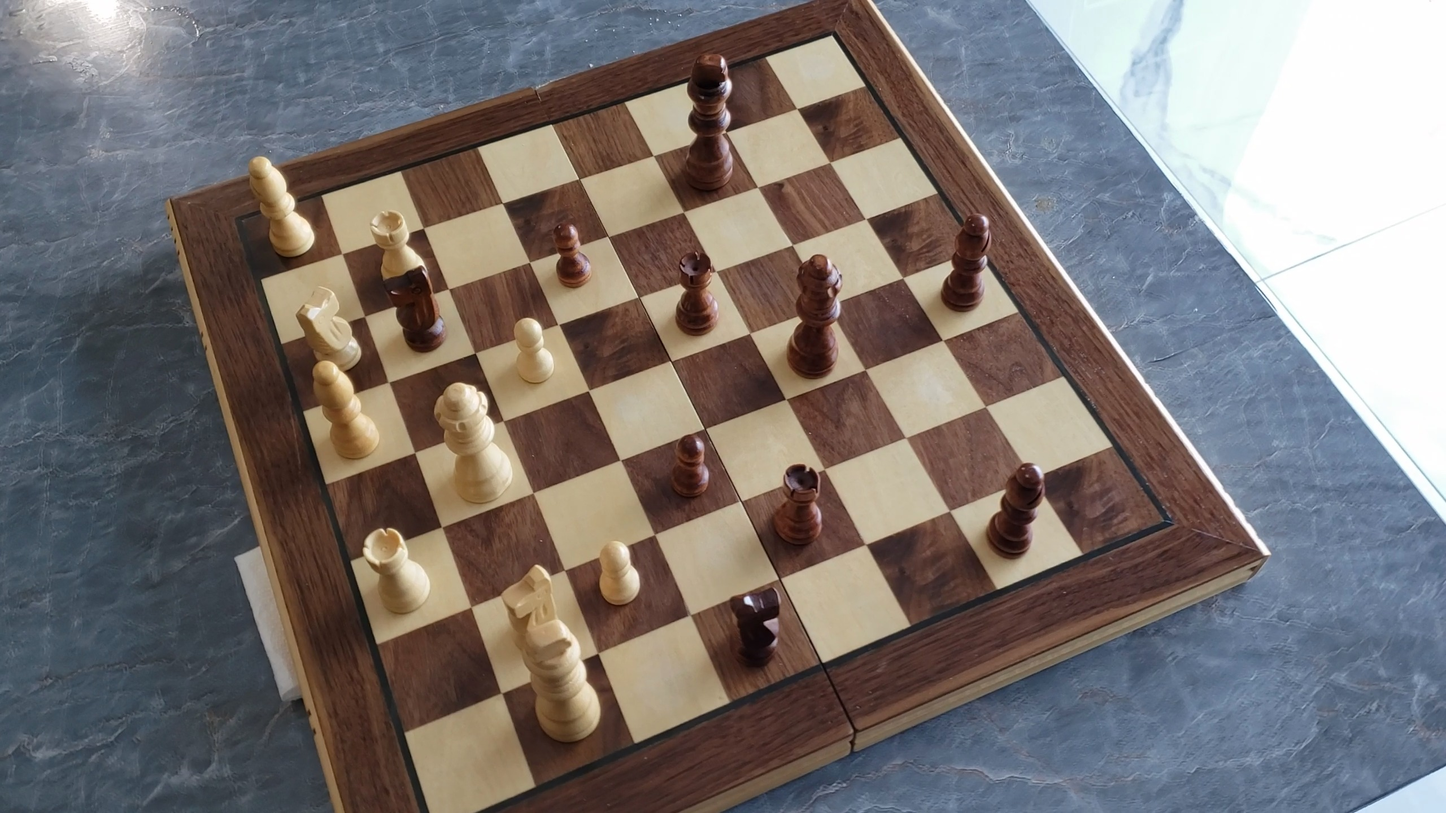black-bishop: (935, 202, 998, 322), (983, 458, 1047, 565)
black-king: (674, 44, 748, 188)
black-knight: (384, 263, 448, 353), (726, 583, 784, 670)
black-pawn: (668, 427, 715, 501), (550, 217, 595, 291)
black-queen: (786, 251, 846, 379)
black-rook: (770, 461, 826, 549), (672, 247, 720, 337)
white-bishop: (243, 151, 319, 263), (306, 359, 384, 464)
white-king: (513, 618, 608, 748)
white-knight: (294, 283, 365, 375), (494, 559, 568, 631)
white-pawn: (591, 535, 646, 610), (507, 312, 560, 388)
white-queen: (430, 381, 517, 509)
white-rook: (360, 523, 435, 619), (367, 206, 429, 288)
